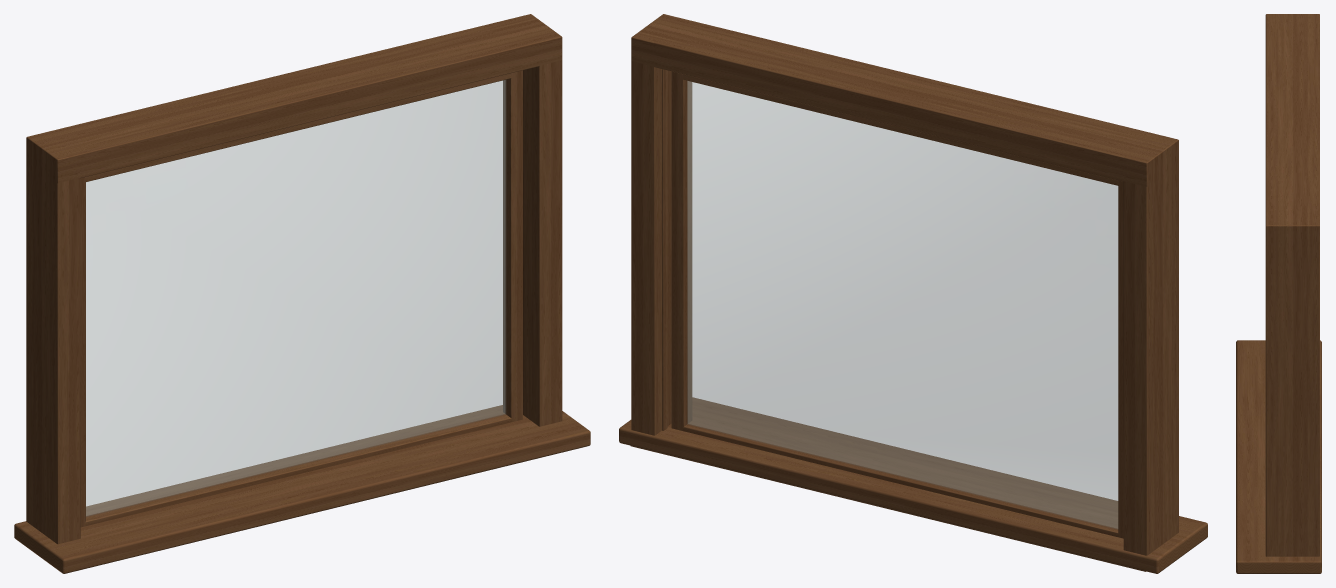
The model's file is picture-fixed-window.glb.
The picture shows the model from 3 angles, left to right: view 1: azimuth 30°, elevation 25°; view 2: azimuth 150°, elevation 25°; view 3: azimuth 270°, elevation 25°; orthographic projection. The views are drawn at different scales.
Visible parts, largest first — view 1: Sash | glass pane, Frame | header, Picture | projecting timber sill, Frame | jamb, Frame | jamb.001, Sash | stile.001, Sash | crossrail, Sash | crossrail.001, Sash | stile; view 2: Sash | glass pane, Frame | header, Picture | projecting timber sill, Frame | jamb, Frame | jamb.001, Sash | stile.001, Sash | crossrail, Sash | crossrail.001, Frame | door stop.001, Sash | stile, Frame | sill; view 3: Frame | jamb.001, Frame | header, Picture | projecting timber sill.
Part boxes in pixels (x1,y1,x2,y2): Sash | glass pane: (86, 80, 505, 516); Frame | header: (27, 14, 562, 183); Picture | projecting timber sill: (14, 405, 590, 573); Frame | jamb: (26, 131, 80, 544); Frame | jamb.001: (509, 14, 562, 426); Sash | stile.001: (503, 70, 522, 421); Sash | crossrail: (85, 412, 511, 526); Sash | crossrail.001: (85, 73, 511, 181); Sash | stile: (80, 177, 85, 527); Sash | glass pane: (687, 81, 1118, 529); Frame | header: (631, 14, 1177, 186); Picture | projecting timber sill: (619, 397, 1207, 573); Frame | jamb: (1123, 134, 1178, 555); Frame | jamb.001: (631, 14, 671, 435); Sash | stile.001: (671, 71, 692, 430); Sash | crossrail: (683, 421, 1118, 537); Sash | crossrail.001: (683, 74, 1118, 185); Frame | door stop.001: (662, 69, 667, 430); Sash | stile: (1118, 180, 1123, 538); Frame | sill: (630, 445, 1146, 571); Frame | jamb.001: (1265, 216, 1319, 556); Frame | header: (1265, 14, 1319, 245); Picture | projecting timber sill: (1236, 340, 1321, 573).
Size of the model in its own units: 1.77 by 1.28 by 0.289.
3 materials, 3 textured.
